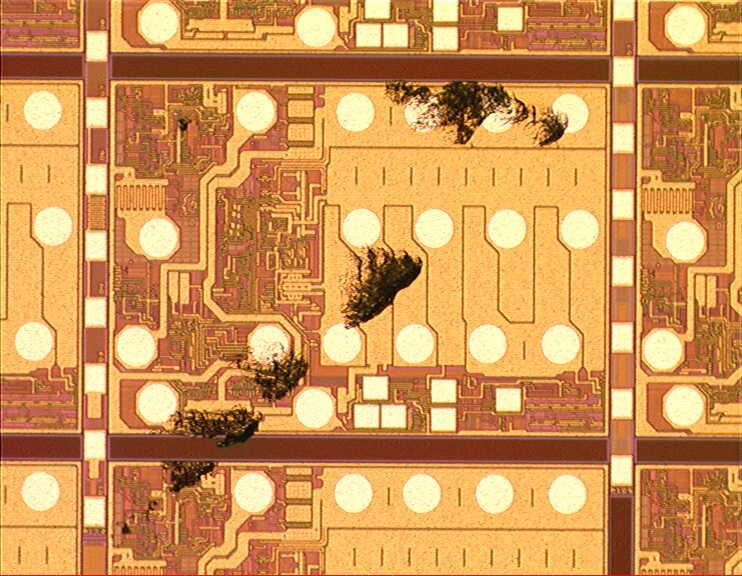SCRATCH: (111, 77, 576, 547)
